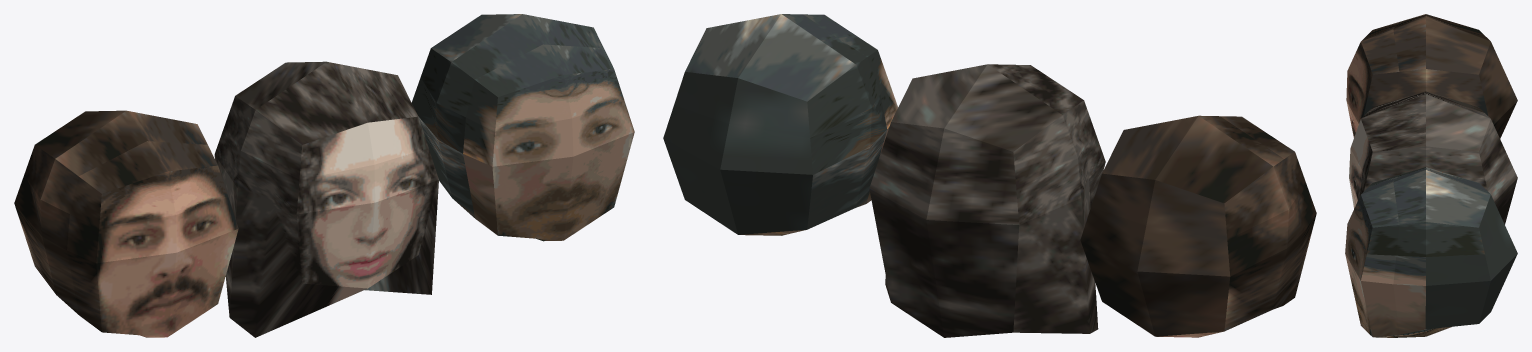
Rendered from CABEÇAS.fbx.
3 views of the same model, side by side, from view 1: azimuth 30°, elevation 25°; view 2: azimuth 150°, elevation 25°; view 3: azimuth 270°, elevation 25° (orthographic). The views are drawn at different scales.
Parts seen in each view (by area): view 1: nat, luis, enzo; view 2: nat, luis, enzo; view 3: enzo, luis, nat.
Boxes of the visible parts, <box> form: nat: <box>214,61,438,337</box>; luis: <box>14,110,238,337</box>; enzo: <box>411,14,634,241</box>; nat: <box>869,64,1105,337</box>; luis: <box>1080,115,1316,337</box>; enzo: <box>663,14,897,235</box>; enzo: <box>1345,167,1517,337</box>; luis: <box>1346,14,1517,138</box>; nat: <box>1349,91,1517,224</box>.
Bounding box in the file's own units: 977 × 399 × 325.
